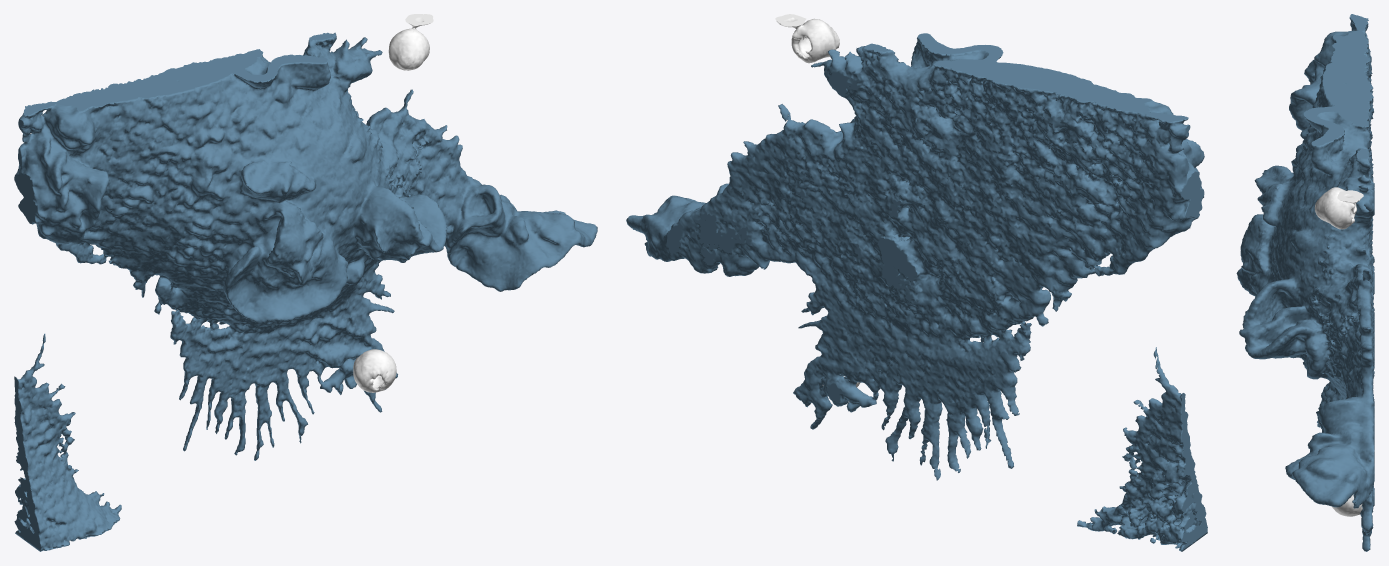
The picture shows the model from 3 angles, left to right: view 1: azimuth 30°, elevation 25°; view 2: azimuth 150°, elevation 25°; view 3: azimuth 270°, elevation 25°; orthographic projection. The views are drawn at different scales.
Parts seen in each view (by area): view 1: surface (×2); view 2: surface (×2); view 3: surface (×2).
Boxes of the visible parts, <box> form: surface (×2): <box>14,14,597,551</box>; surface (×2): <box>626,14,1207,551</box>; surface (×2): <box>1236,14,1374,551</box>.
Size of the model in its own units: 610 by 436 by 136.
